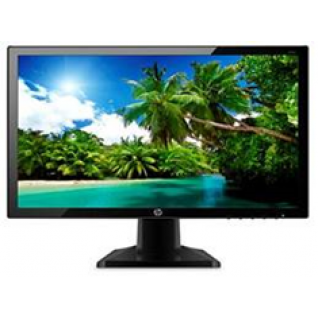hp-monitor-19ka: (1, 45, 309, 269)
